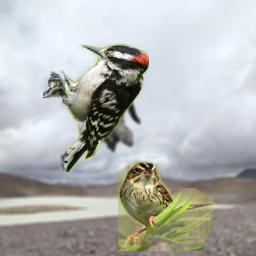Sparrow: (118, 160, 213, 251)
Woodpecker: (43, 42, 149, 172)
